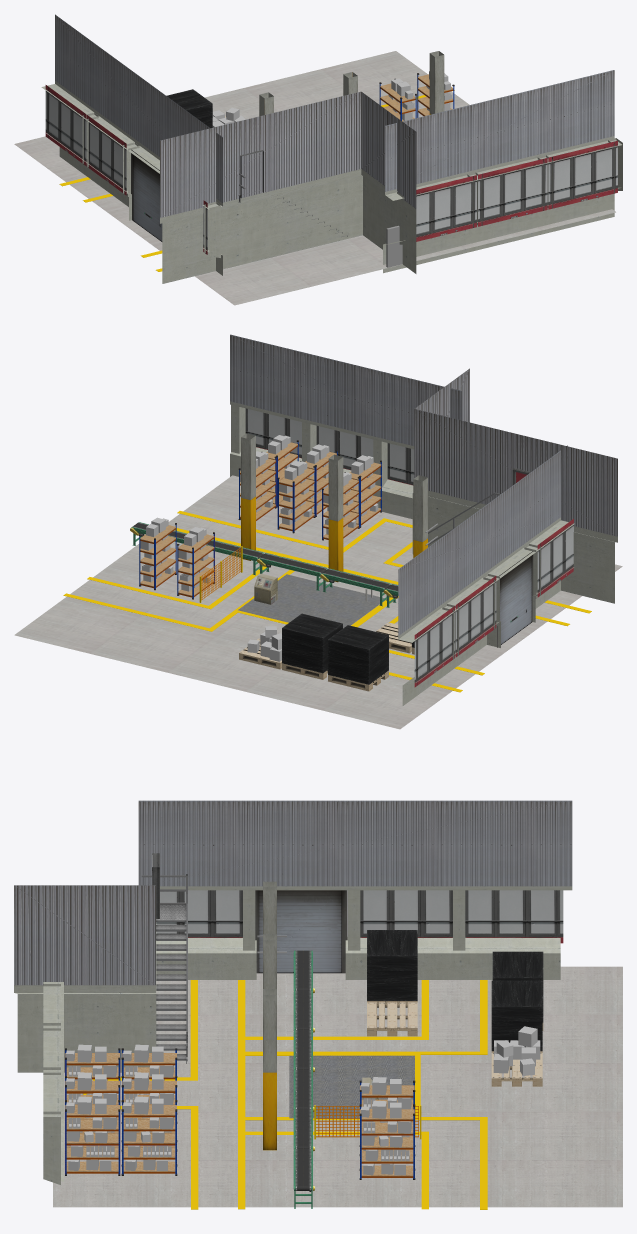
The picture shows the model from 3 angles, top to bottom: view 1: azimuth 30°, elevation 25°; view 2: azimuth 150°, elevation 25°; view 3: azimuth 270°, elevation 25°; orthographic projection. The views are drawn at different scales.
Visible parts, largest first — view 1: WorkCell; view 2: WorkCell; view 3: WorkCell.
Boxes of the visible parts, bbox=[...] form: WorkCell: bbox=[14, 14, 622, 305]; WorkCell: bbox=[14, 334, 622, 729]; WorkCell: bbox=[14, 800, 622, 1209].
Bounding box in the file's own units: 22180 × 21476 × 7665.
